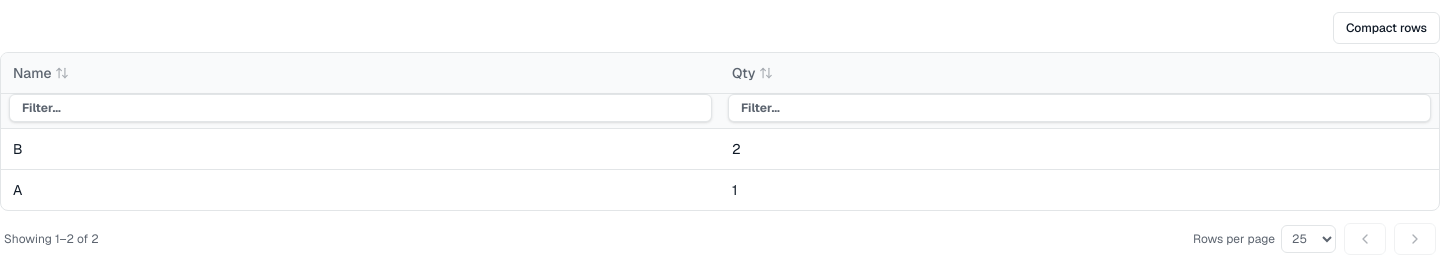
Test: DataTable › filters rows by a per-column text input (case-insensitive includes)
Type "a" into the search field named "filter name". click: point(360, 108)
box: [9,94,712,122]
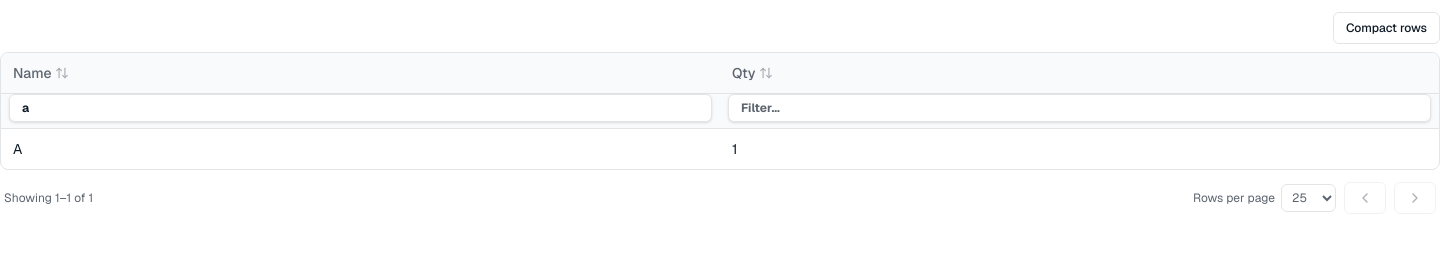
Now the text "B" is gone
